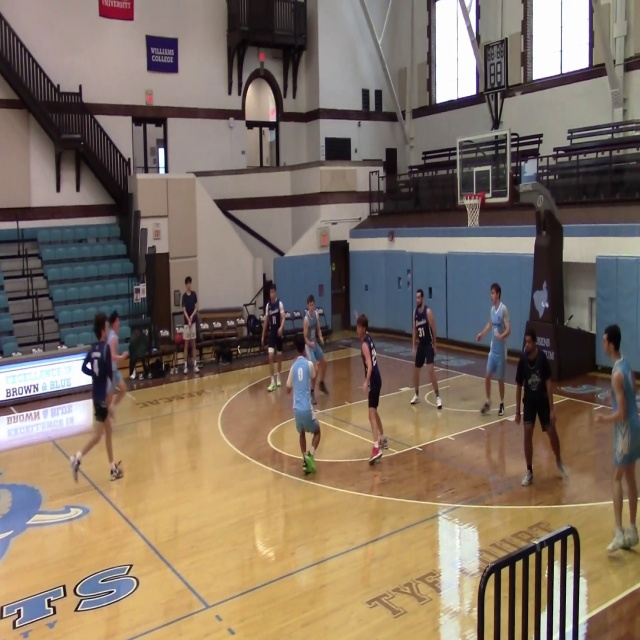Basketball: (174, 333, 184, 345)
